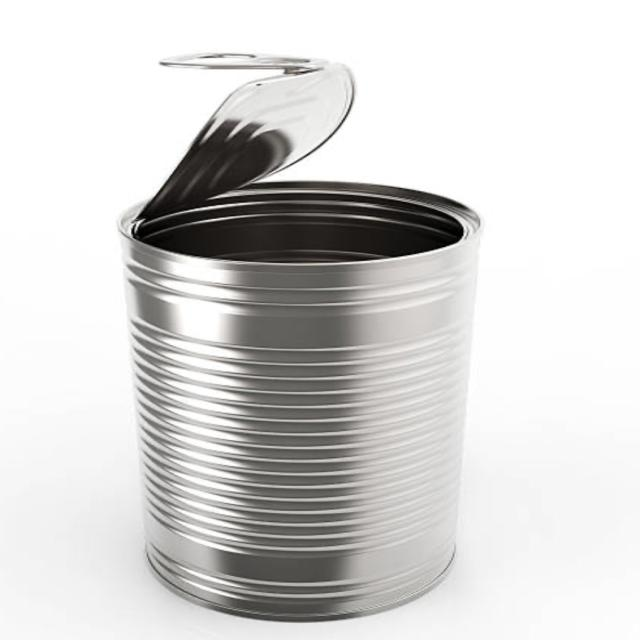recyclable: (73, 25, 548, 628)
